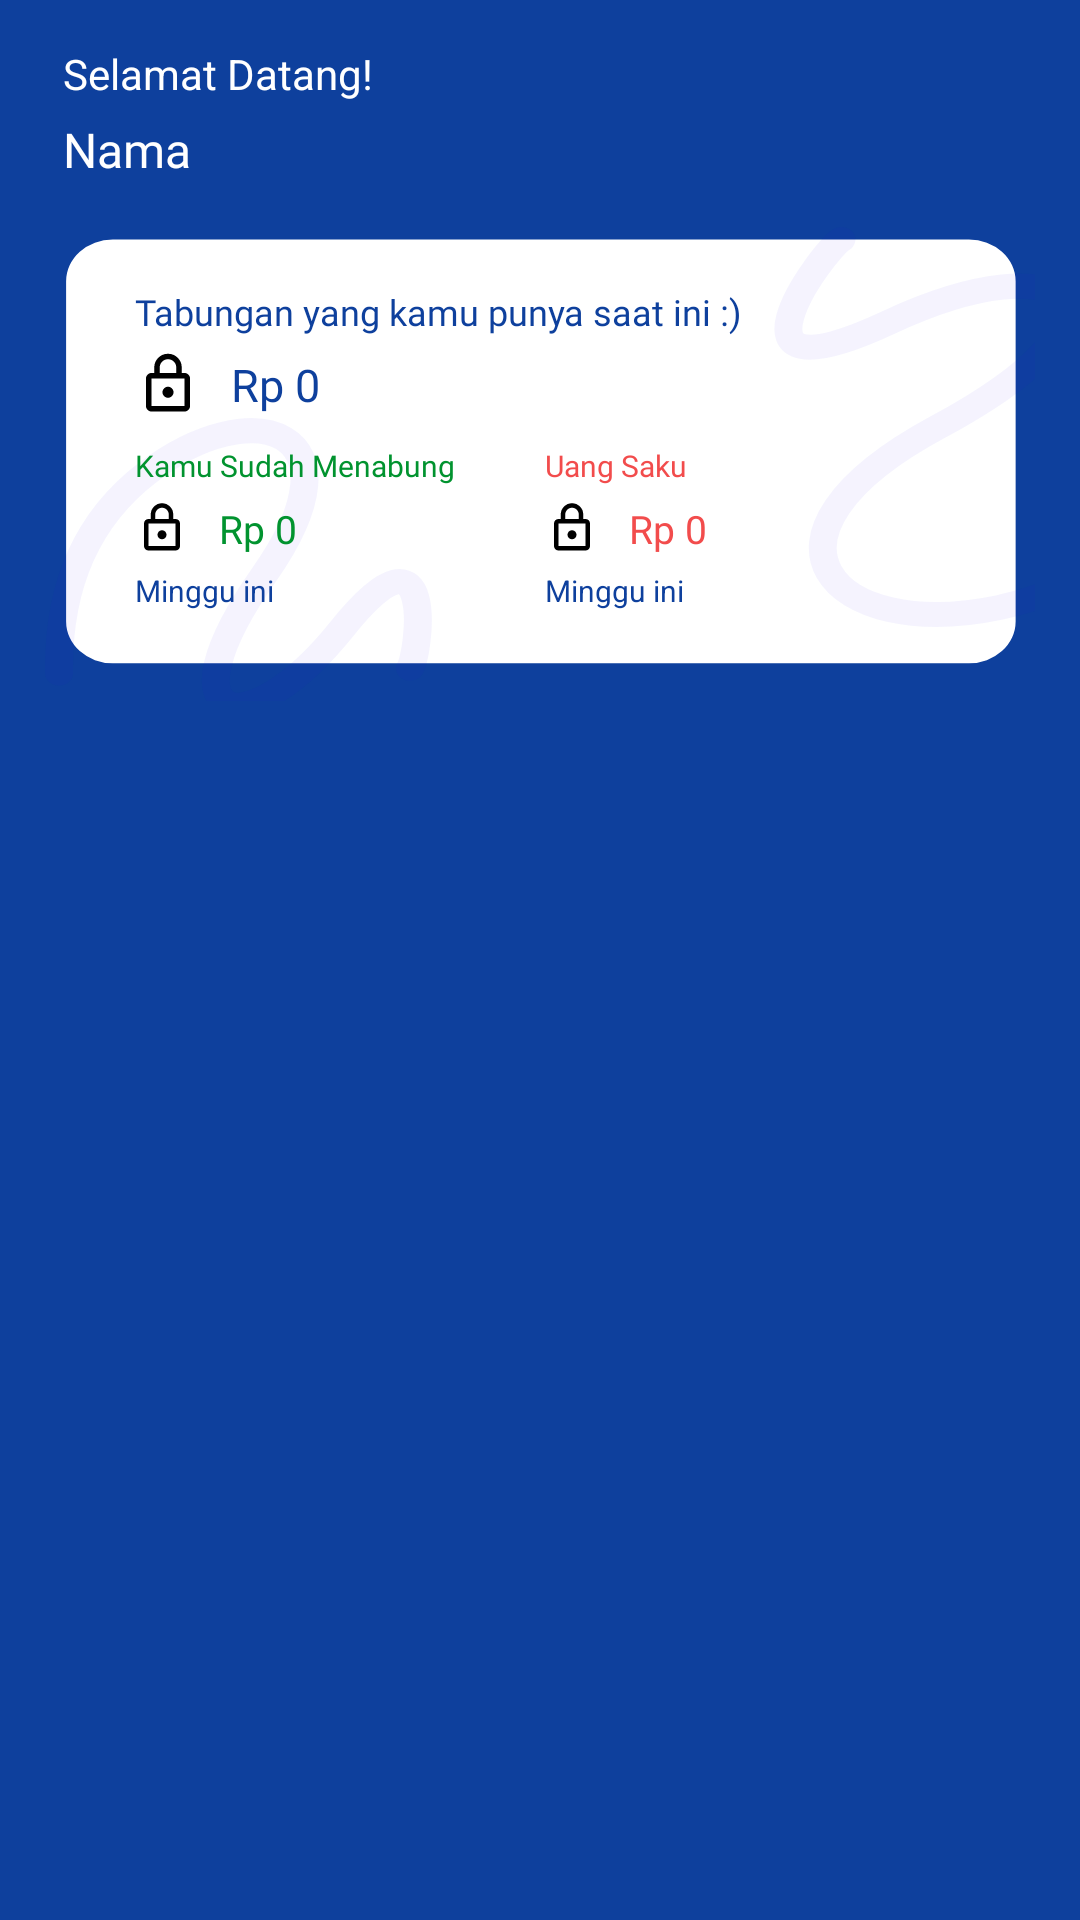

Icons on this 1080x1920 Android screen, each with the point to tap as (x,y):
lock: (168,382), (162,527), (572,527)
